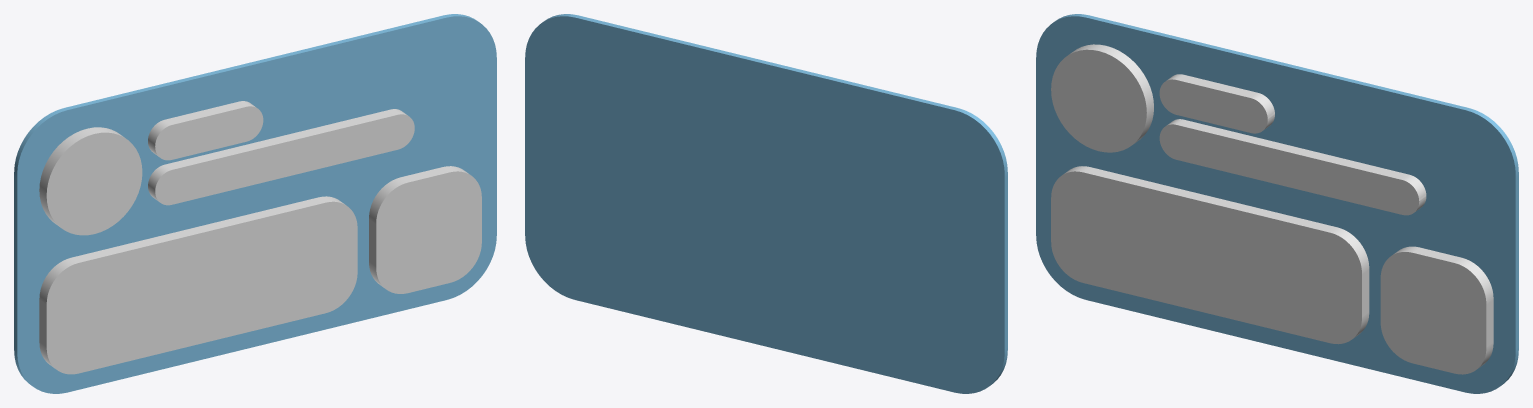
The model's file is card3d.glb.
3 views of the same model, side by side, from view 1: azimuth 30°, elevation 25°; view 2: azimuth 150°, elevation 25°; view 3: azimuth 330°, elevation 25° (orthographic).
Visible parts, largest first — view 1: Curve, Curve.004, Curve.005, Curve.003, Curve.001, Curve.002; view 2: Curve; view 3: Curve, Curve.004, Curve.005, Curve.003, Curve.001, Curve.002.
Boxes of the visible parts, bbox=[...] form: Curve: bbox=[14, 14, 496, 393]; Curve.004: bbox=[39, 196, 357, 374]; Curve.005: bbox=[369, 166, 481, 293]; Curve.003: bbox=[148, 109, 414, 205]; Curve.001: bbox=[39, 127, 142, 235]; Curve.002: bbox=[148, 101, 263, 160]; Curve: bbox=[525, 14, 1007, 393]; Curve: bbox=[1036, 14, 1518, 393]; Curve.004: bbox=[1051, 166, 1369, 344]; Curve.005: bbox=[1380, 246, 1493, 374]; Curve.003: bbox=[1159, 119, 1426, 215]; Curve.001: bbox=[1051, 44, 1153, 152]; Curve.002: bbox=[1159, 74, 1274, 133].
Size of the model in its own units: 4 by 2.25 by 0.1492.
